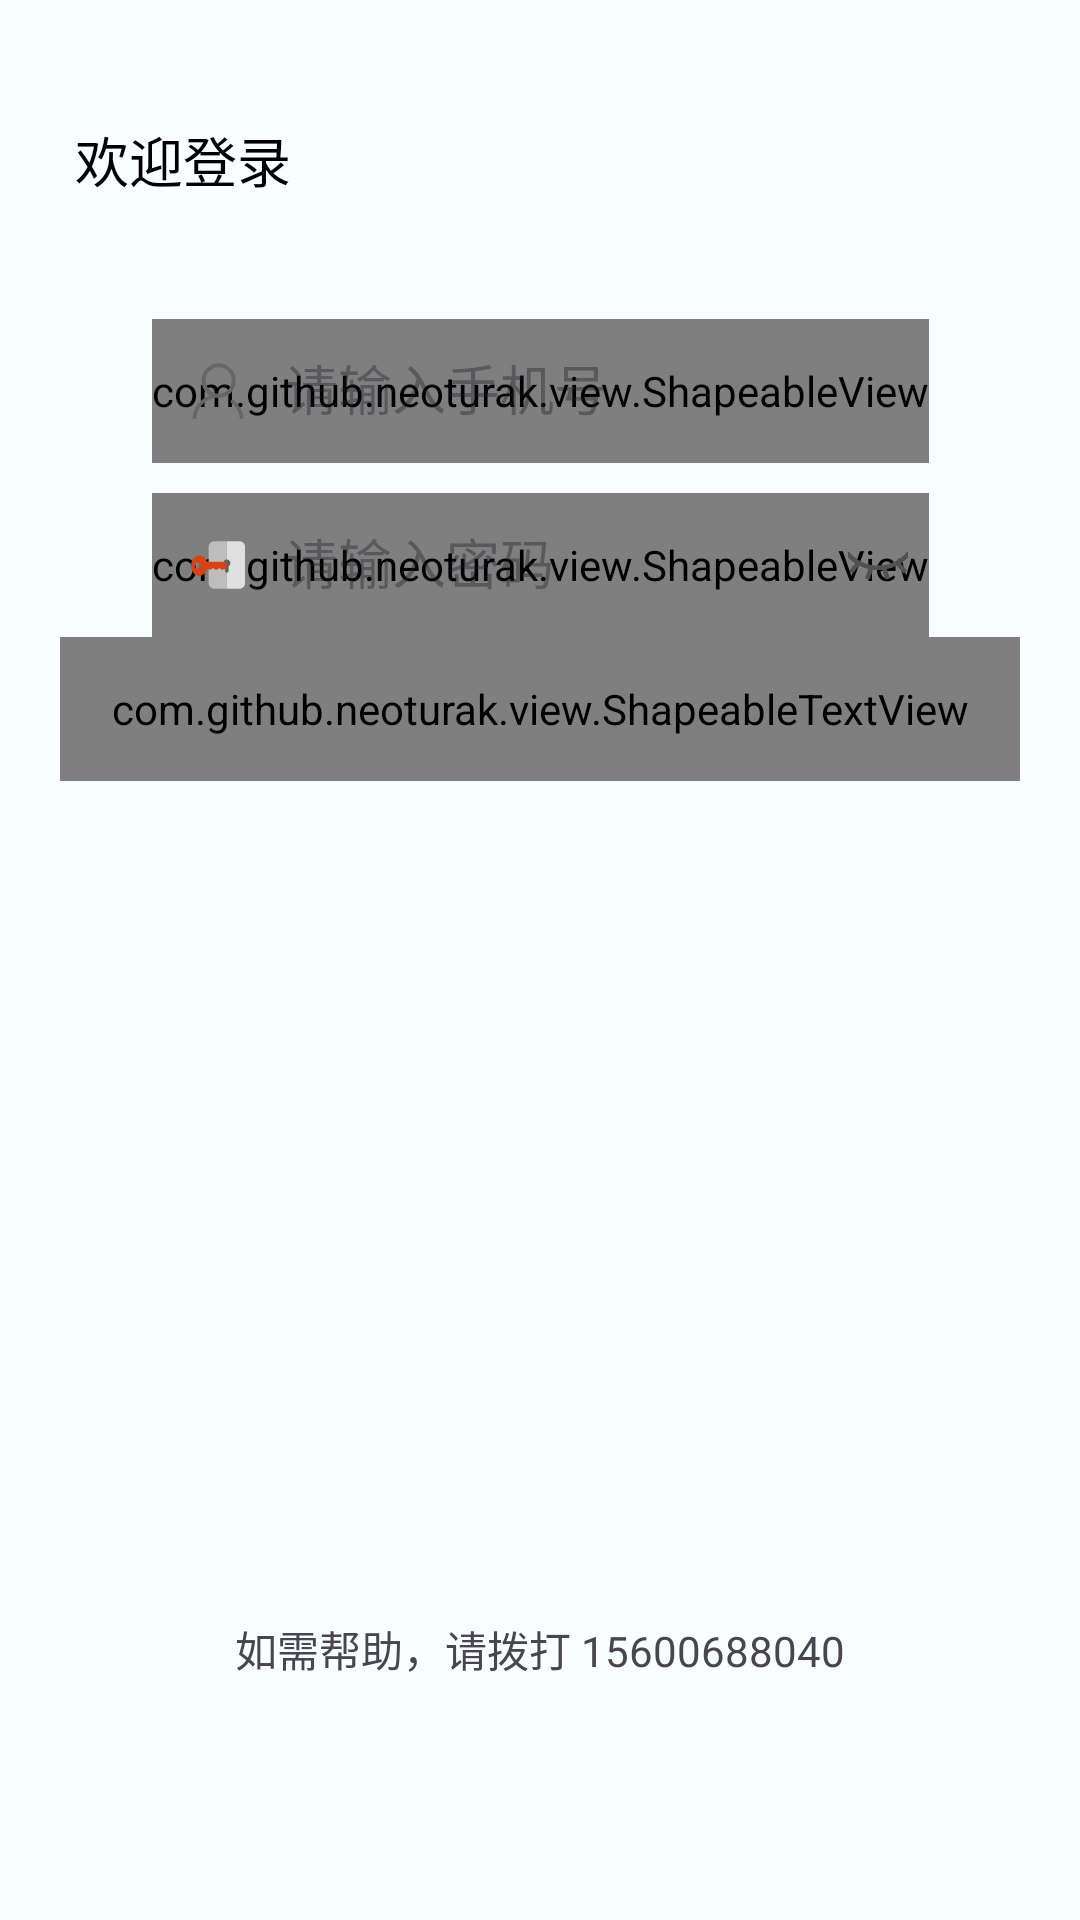

Point at icon controls on the screen. Image size 1080 x 1920, points as point (x, y).
eye close: point (878, 566)
login: point (218, 565)
